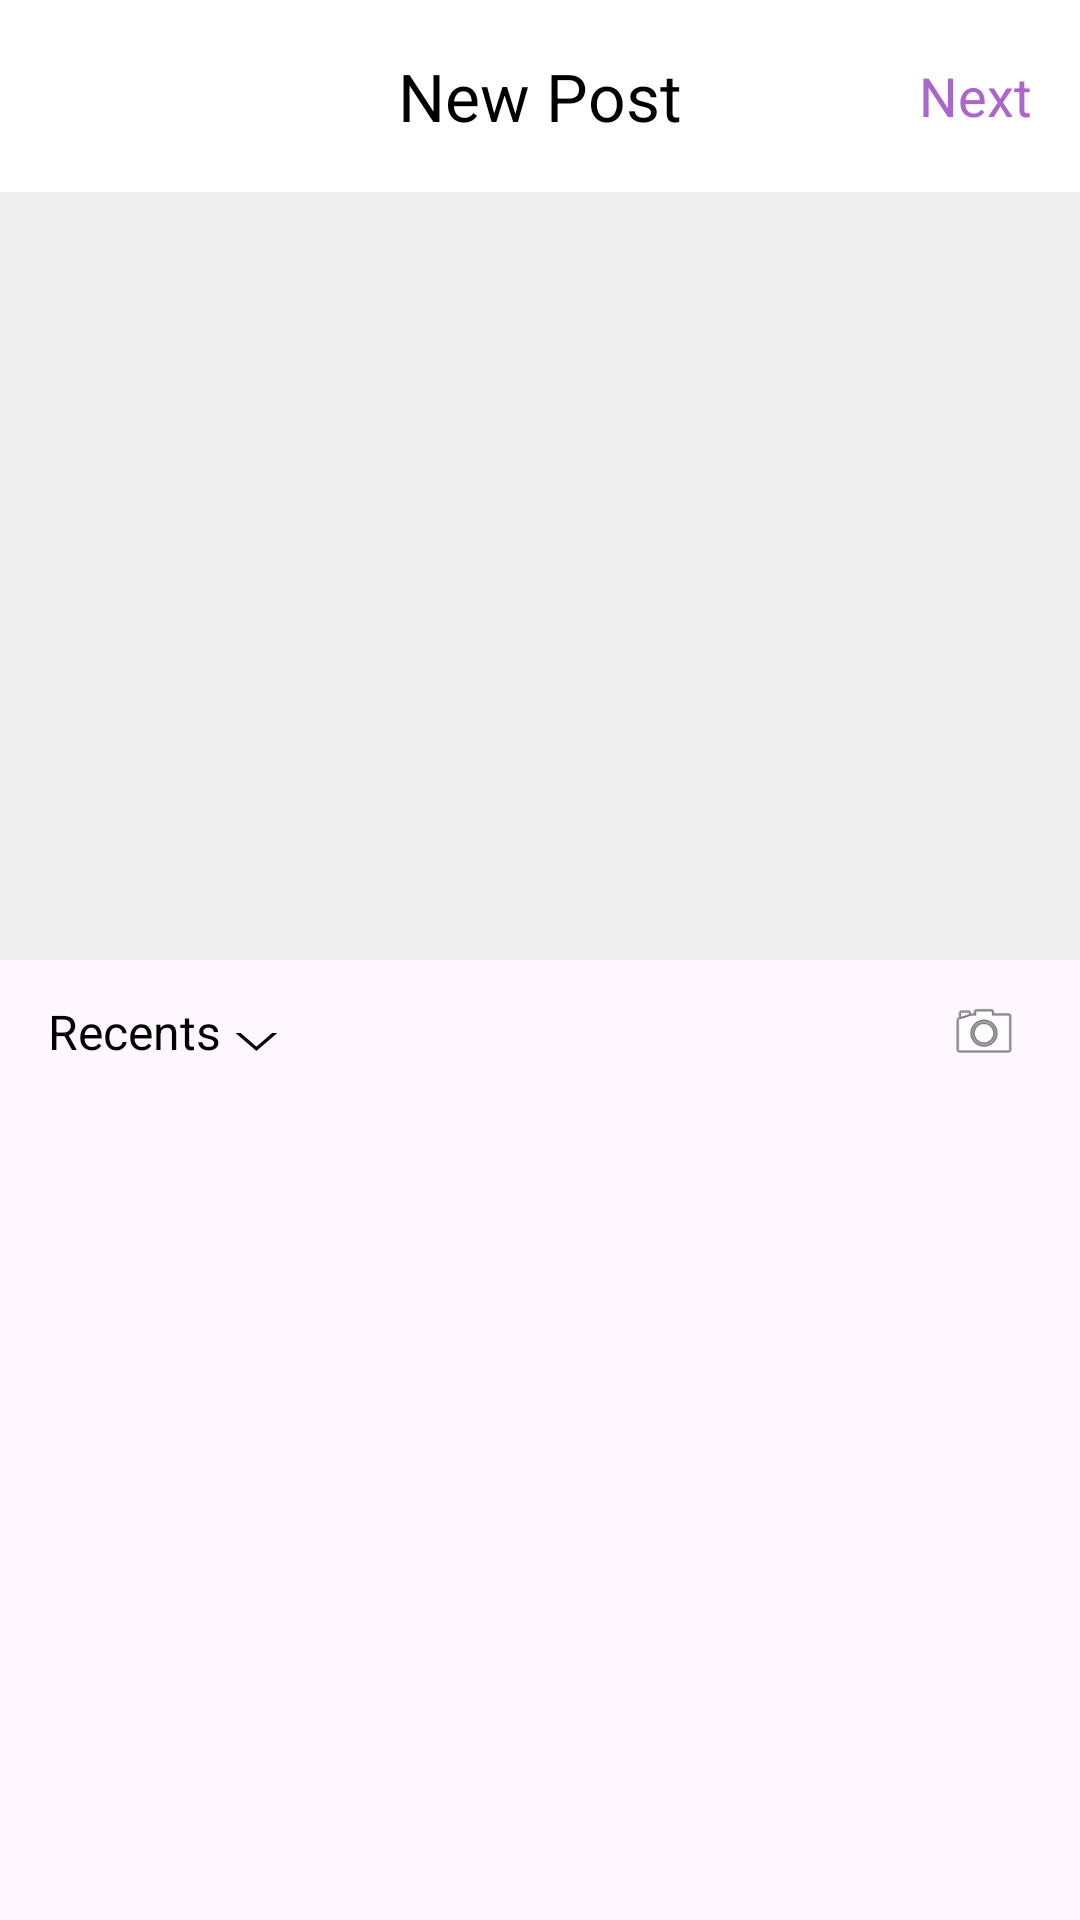

Screen size 1080 x 1920. Icon name, then its box in pixels as BBox(x1, y1, x2, y2):
camera: BBox(956, 1009, 1012, 1053)
